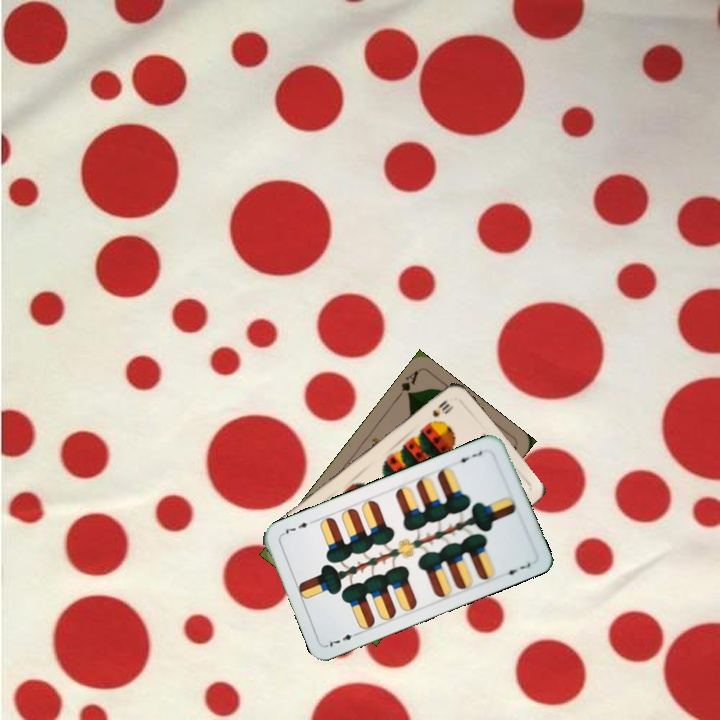E7: (323, 628, 362, 649), (452, 446, 486, 465)
GA: (392, 366, 421, 402)
S10: (428, 396, 456, 420)
